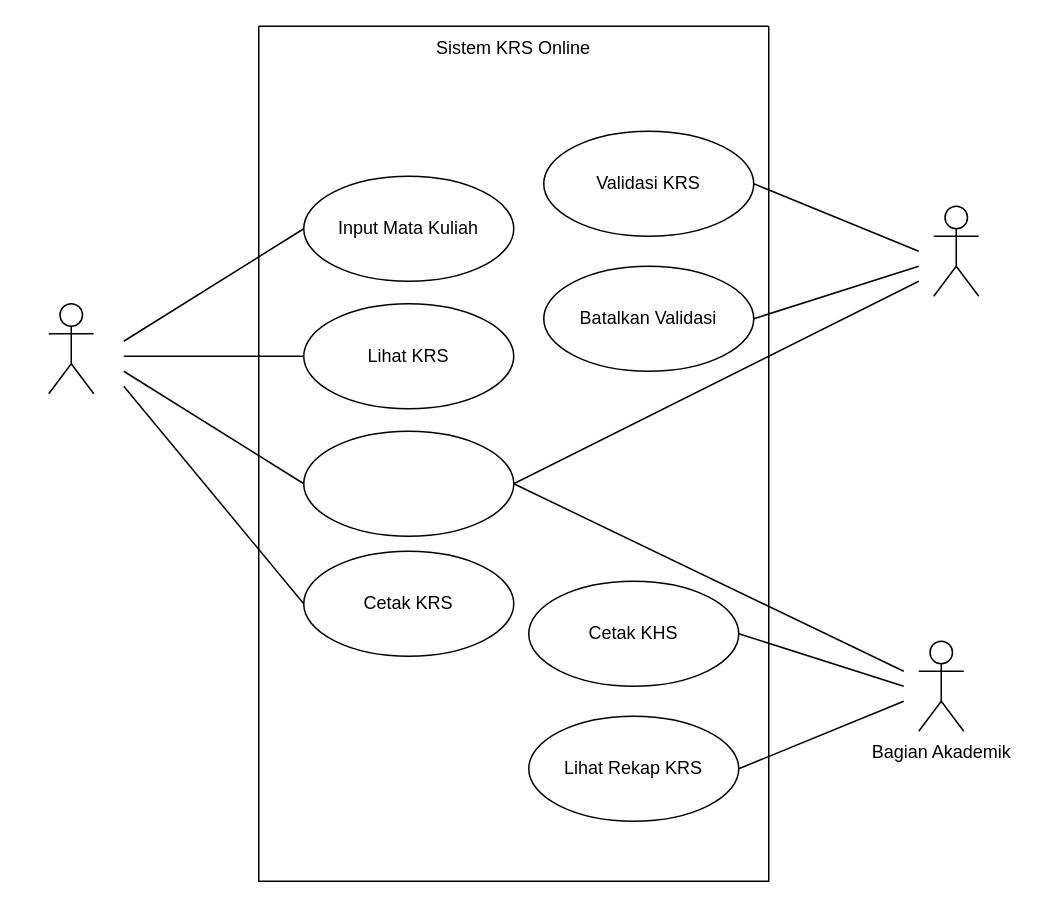
The diagram is 1037 pixels wide and 908 high, and some of its shapes have lost their labels. The shapes that lost their labels are listed below. From the top down, each one's box as (x1, y1, x2, y2) in pixels, then its label:
(932, 205, 979, 296): Dosen wali
(47, 302, 94, 394): Mahasiswa
(302, 430, 514, 536): Login
